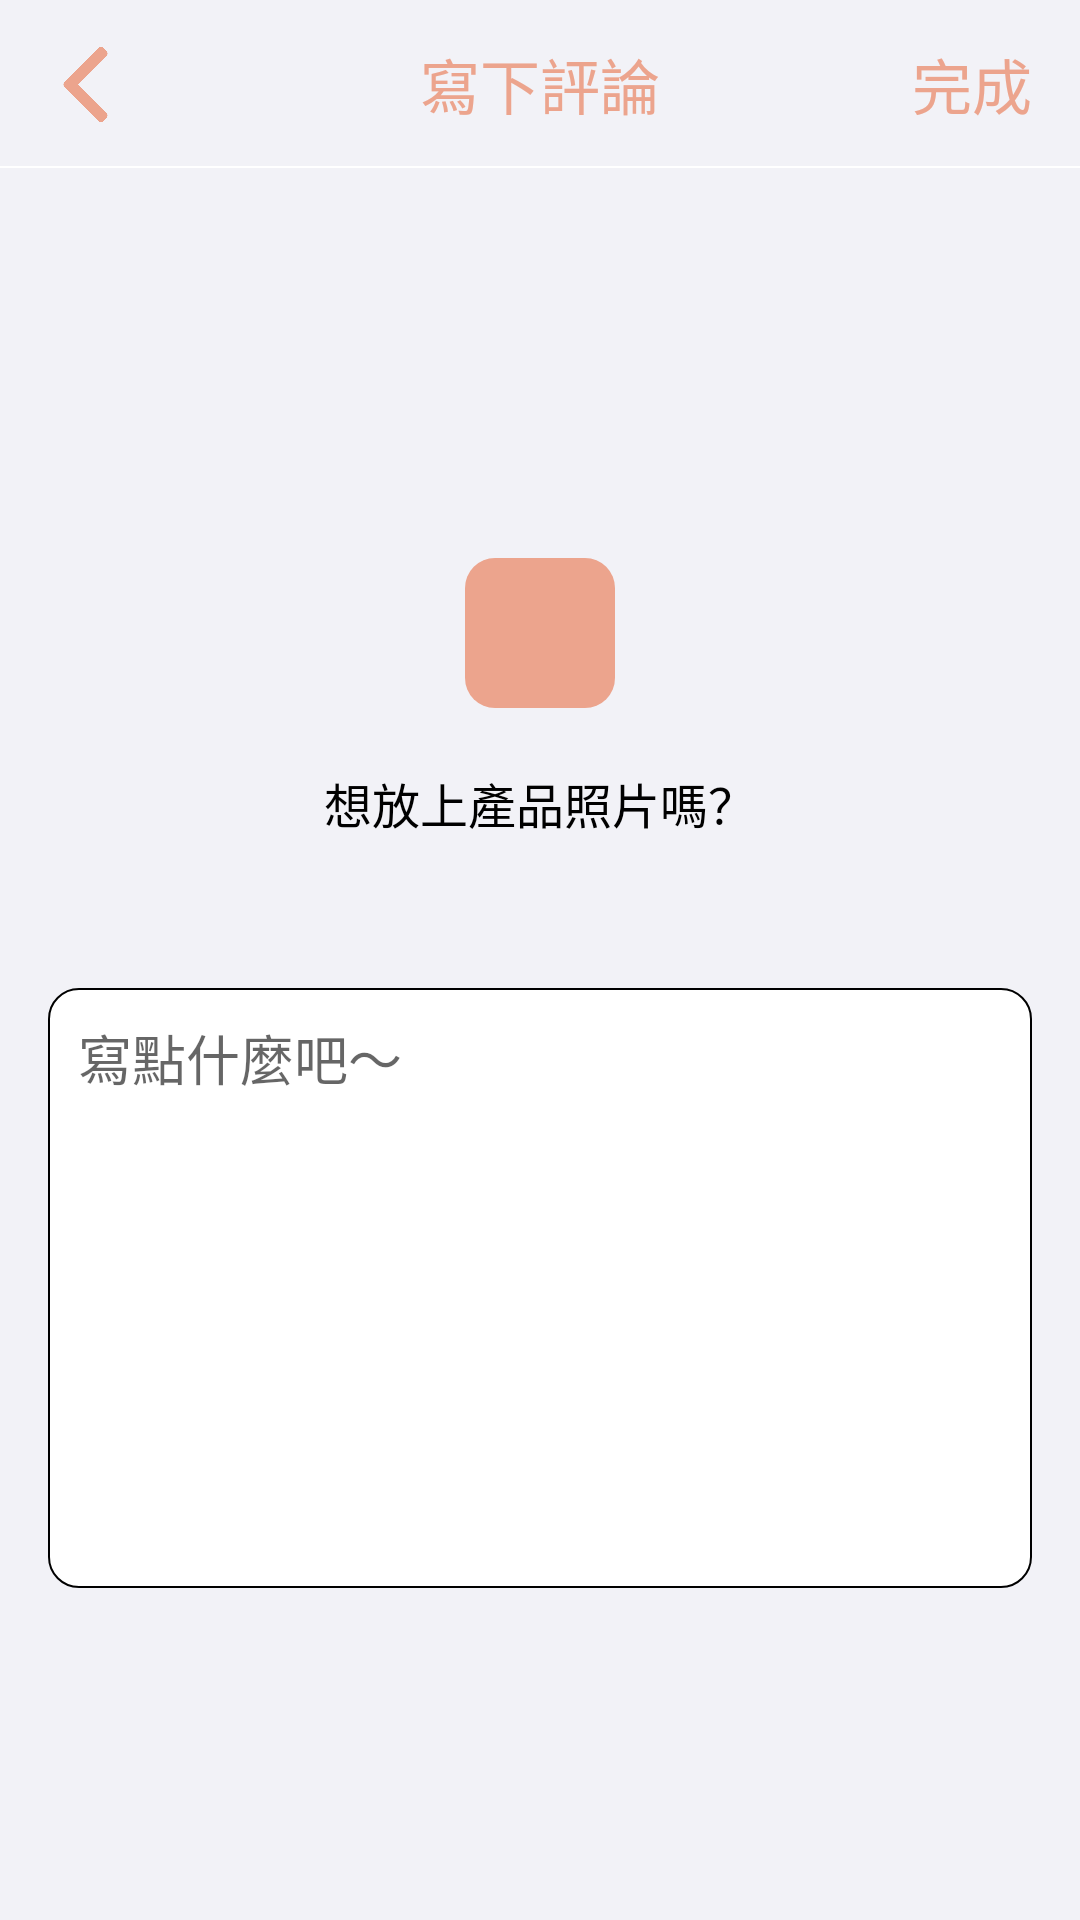

Screen size 1080×1920. Icon name, then its box in pixels as (x1, y1, x2, y2):
back: (63, 47, 108, 122)
